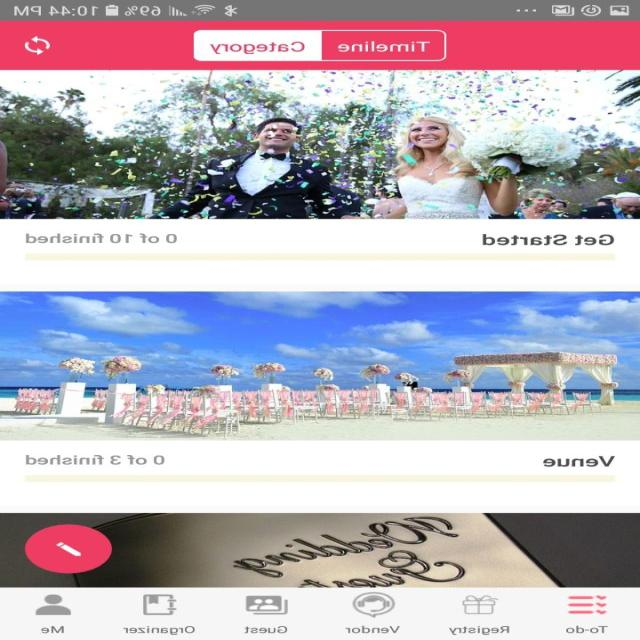Icon: (25, 524, 113, 573), (246, 595, 289, 615), (568, 594, 607, 614), (36, 594, 72, 615), (462, 594, 499, 614), (143, 594, 178, 615), (24, 36, 52, 56)
Image: (1, 291, 640, 440), (1, 70, 640, 219), (1, 512, 640, 587), (352, 592, 396, 618)
Text: (482, 233, 616, 246), (27, 232, 180, 243), (26, 454, 166, 464), (543, 456, 616, 466), (124, 625, 196, 635), (448, 625, 511, 635), (346, 625, 401, 633), (565, 625, 609, 633), (244, 625, 288, 633), (41, 625, 66, 633)
TextButton: (322, 29, 447, 62), (194, 30, 321, 62)
